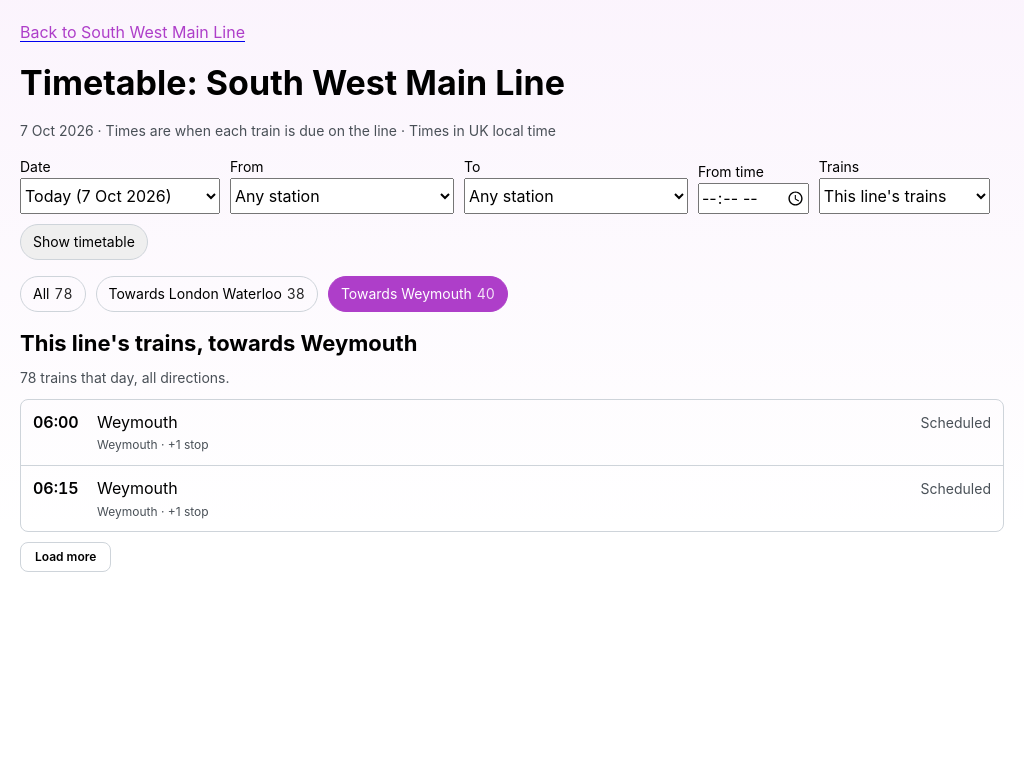
Test: LineTimetablePage › loads the next pages in place with the same filters, and says when the day is done
The width and height of the screenshot is (1024, 768).
What coordinates should you click on to do the following:
click the button "Load more"
I would click on:
 (66, 558)
Its box is [20,542,111,572].
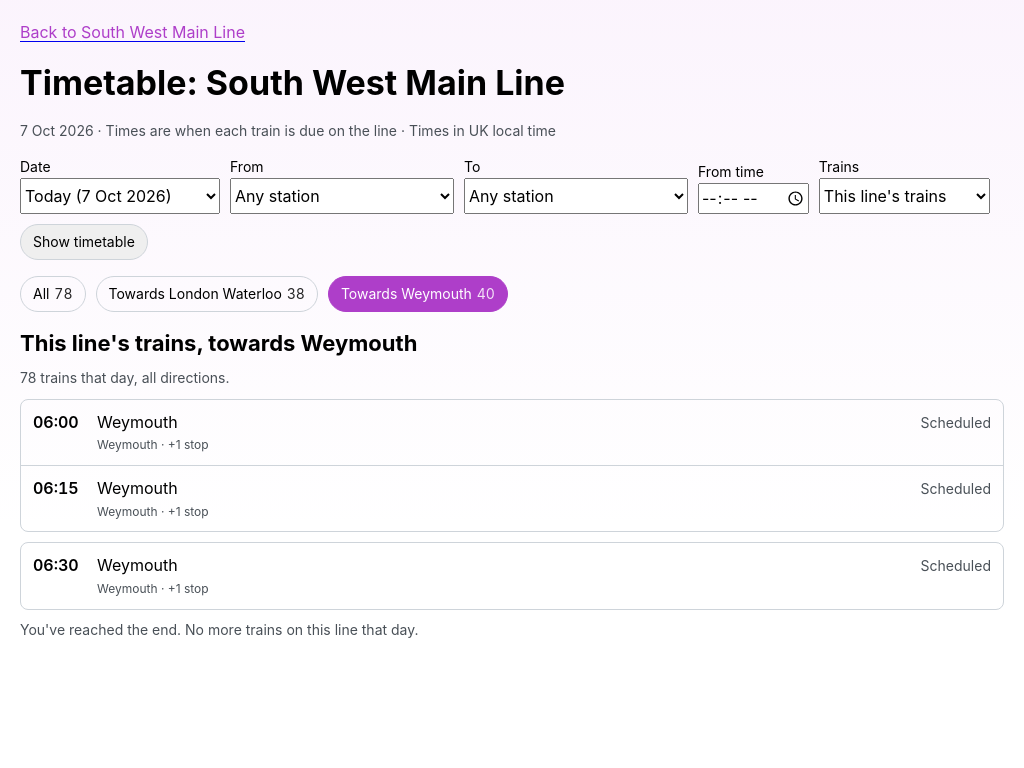
Result: the list named "More trains" is shown at [20,542,1004,610]
Result: the text "You've reached the end. No more trains on this line that day." is shown at [20,621,418,638]
Result: the button "Load more" is gone
